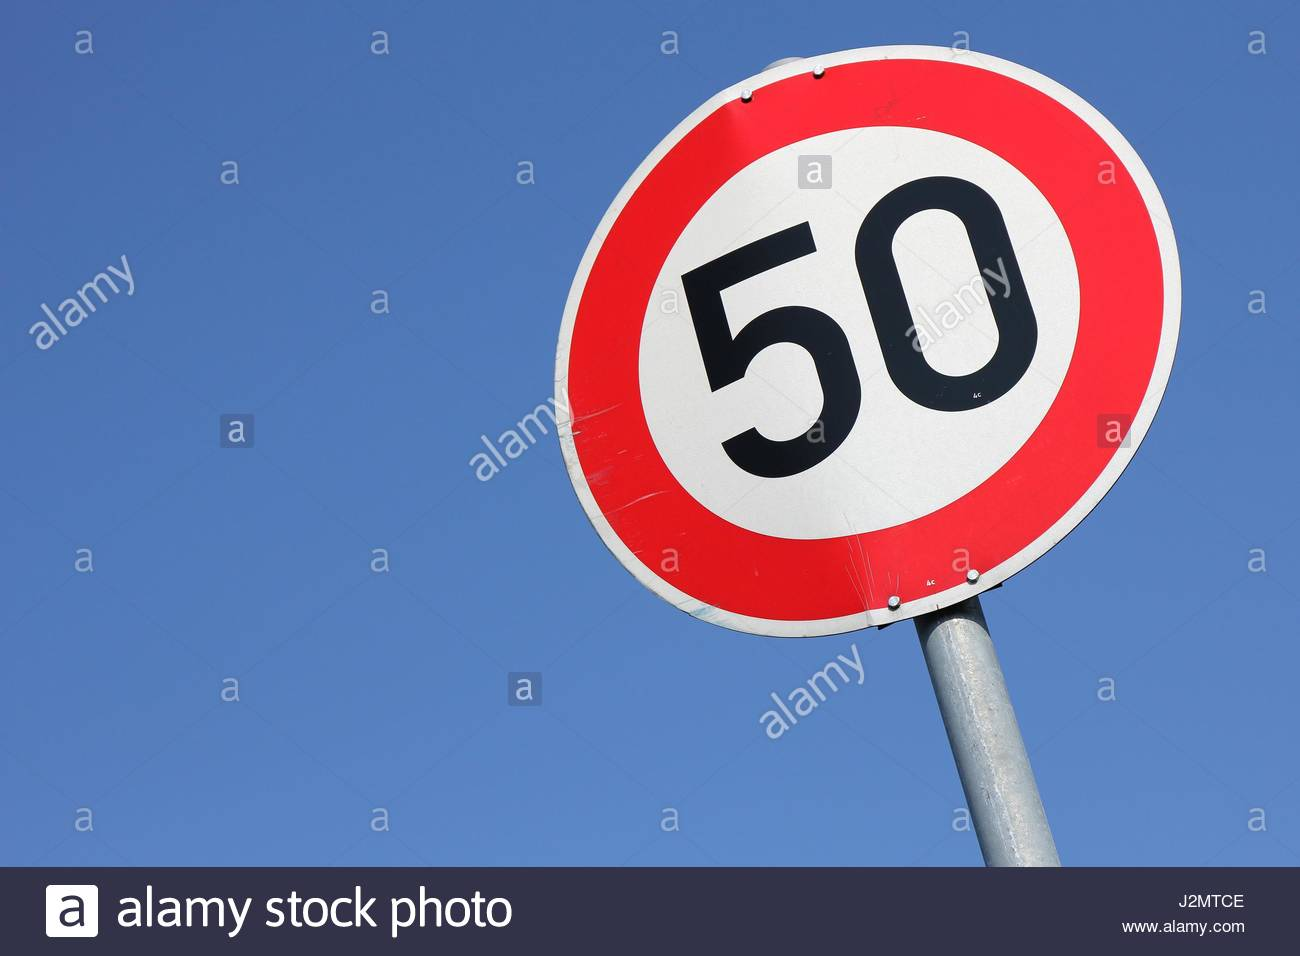Speed_limit_50km: (558, 42, 1183, 637)
